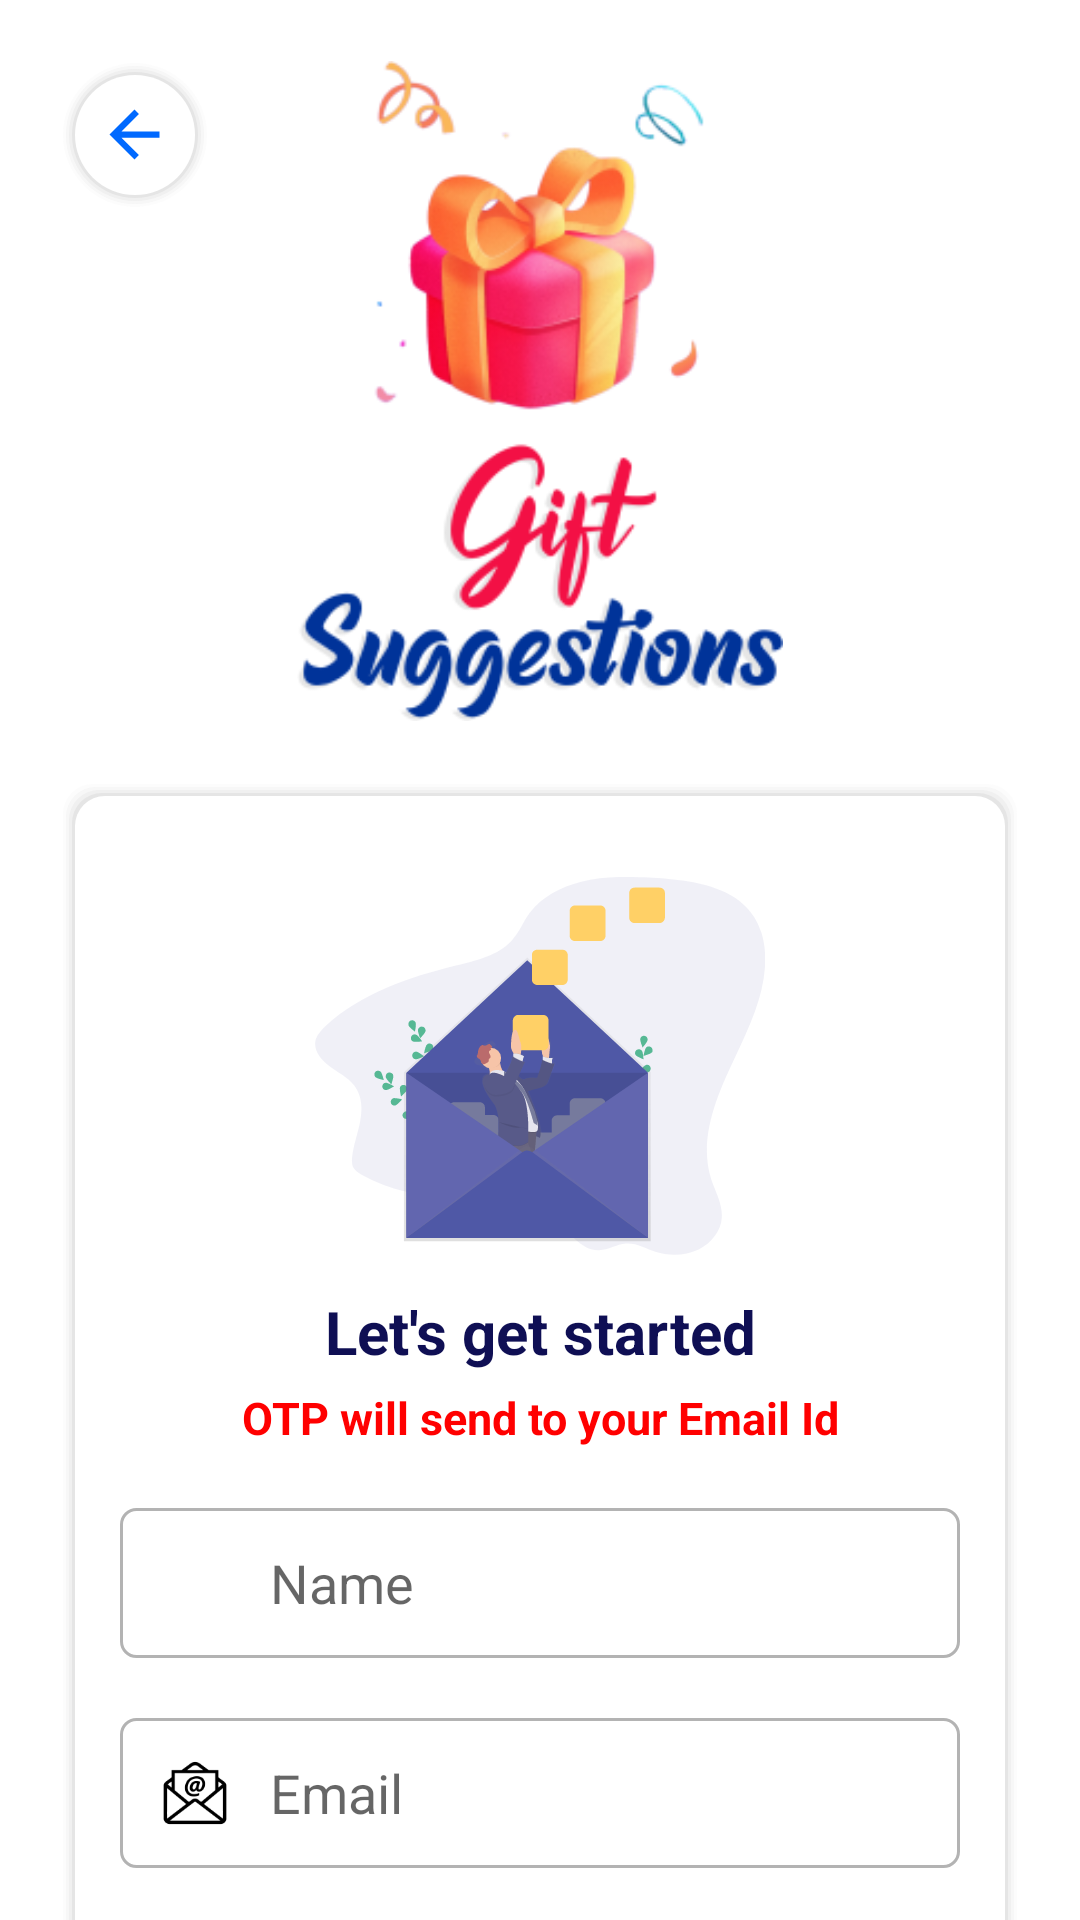

Screen size 1080 × 1920. Icon name, then its box in pixels as detection(x1, y1, x2, y2):
arrow back: detection(109, 109, 160, 160)
